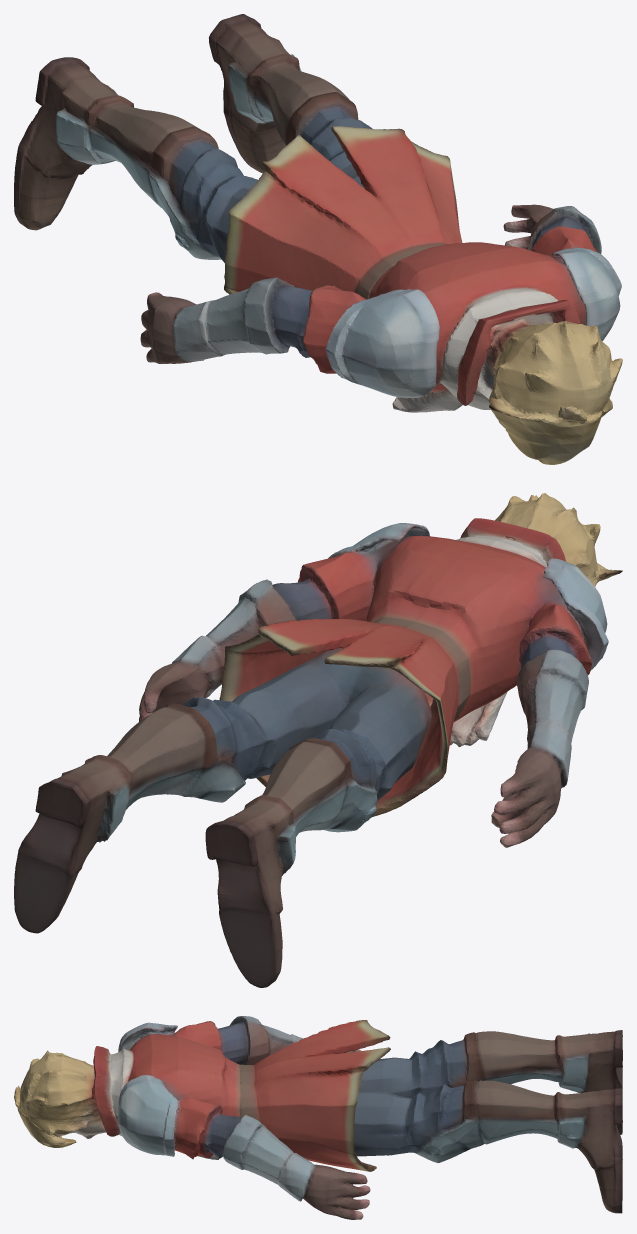
Rendered from hunter_trellis_vertexcolor.glb.
The picture shows the model from 3 angles, top to bottom: view 1: azimuth 30°, elevation 25°; view 2: azimuth 150°, elevation 25°; view 3: azimuth 270°, elevation 25°; orthographic projection. The views are drawn at different scales.
Parts seen in each view (by area): view 1: geometry_0; view 2: geometry_0; view 3: geometry_0.
Boxes of the visible parts, left/top/right/bottom form: geometry_0: left=14, top=14, right=622, bottom=464; geometry_0: left=14, top=493, right=622, bottom=987; geometry_0: left=14, top=1016, right=622, bottom=1219.
Bounding box in the file's own units: 0.5438 × 0.2379 × 0.9982.
